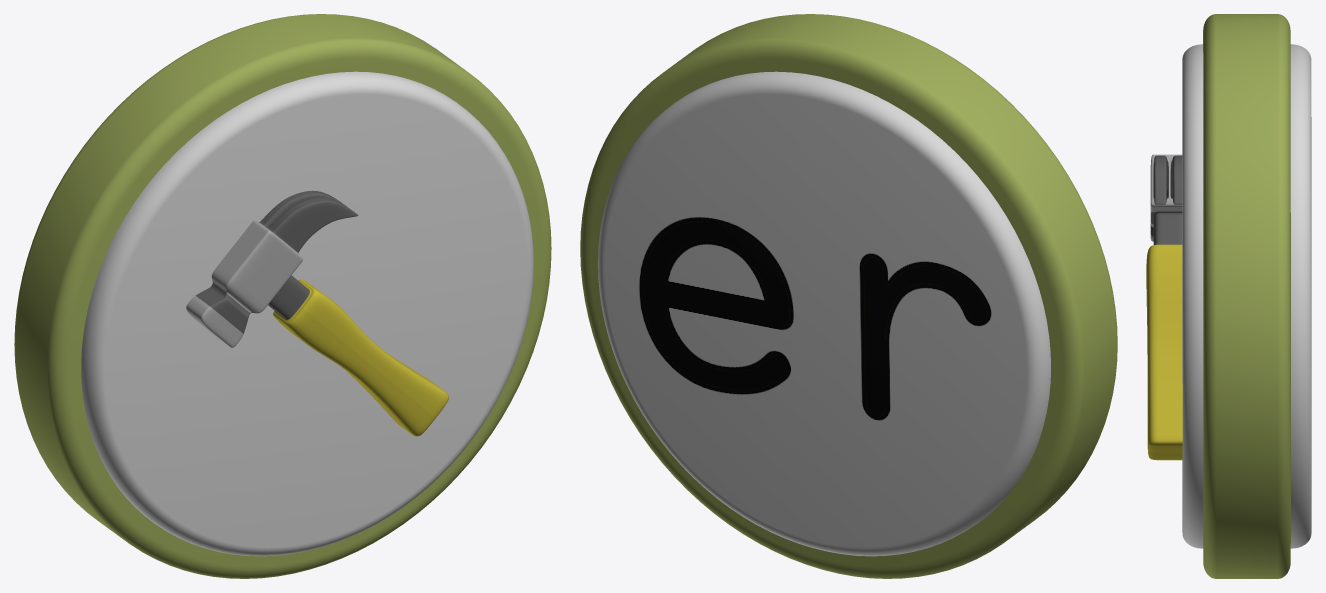
Rendered from hammer.gltf.
3 views of the same model, side by side, from view 1: azimuth 30°, elevation 25°; view 2: azimuth 150°, elevation 25°; view 3: azimuth 270°, elevation 25° (orthographic). The views are drawn at different scales.
Visible parts, largest first — view 1: Cylinder_2, Cylinder.001, Cube; view 2: Cylinder_2, Cylinder.001; view 3: Cylinder.001, Cylinder_2, Cube.
Part boxes in pixels (x1,y1,x2,y2): Cylinder_2: (81,71,533,556); Cylinder.001: (14,14,551,578); Cube: (186,190,448,436); Cylinder_2: (598,71,1050,556); Cylinder.001: (580,14,1117,578); Cylinder.001: (1203,14,1290,578); Cylinder_2: (1182,44,1311,548); Cube: (1146,154,1182,460).
Size of the model in its own units: 2.56 by 2.56 by 0.748.
6 materials, 1 textured.
